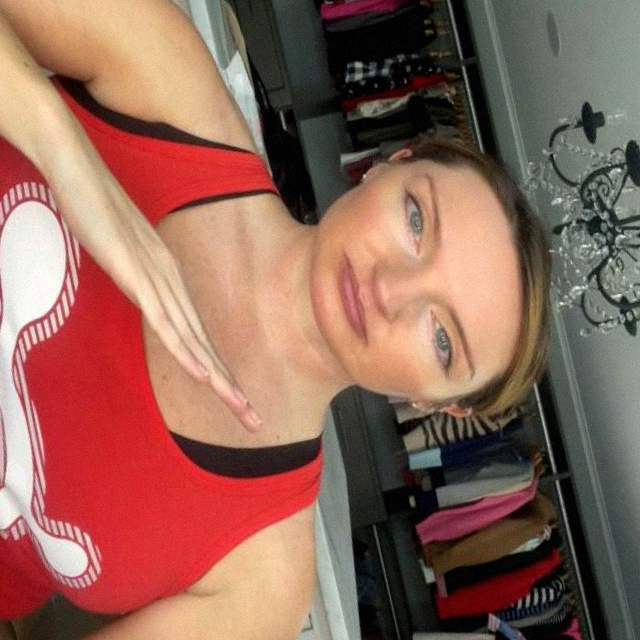Paper: (38, 92, 260, 455)
